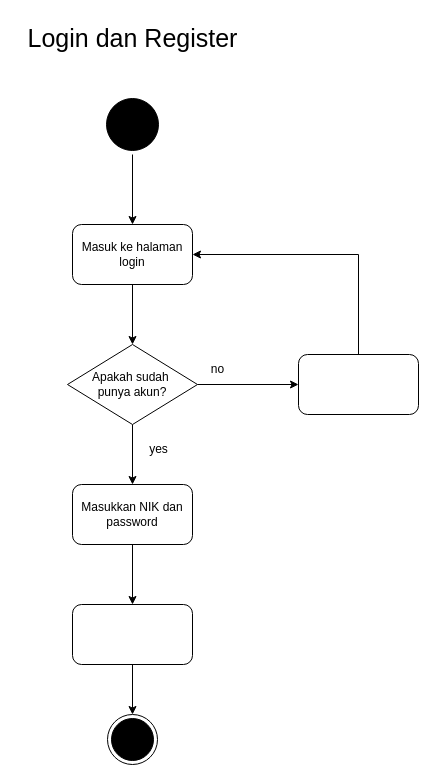
This 436x782 diagram has some shape labels left out. Each missing label, with the centre of its shape:
"Buat akun dan masukkan data diri sesuai KTP" belongs at [358,384].
"Menuju beranda" belongs at [132,634].
